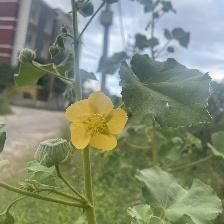indian mallow: (66, 90, 131, 154)
